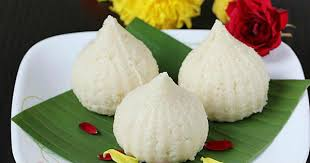modak: (175, 14, 287, 128), (99, 73, 222, 161), (78, 8, 156, 114)
